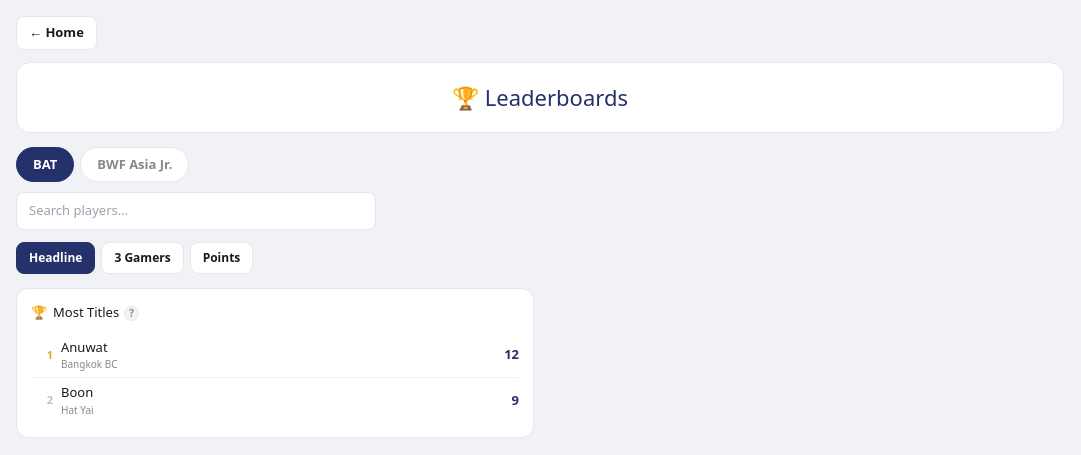
Test: LeaderboardsView › switches provider when tab clicked
This screenshot has width=1081, height=455.
Expected: the text "Ratchanok" is not shown
Step 1. Click the button "BWF Asia Jr." → (135, 164), box [80,146,189,182]
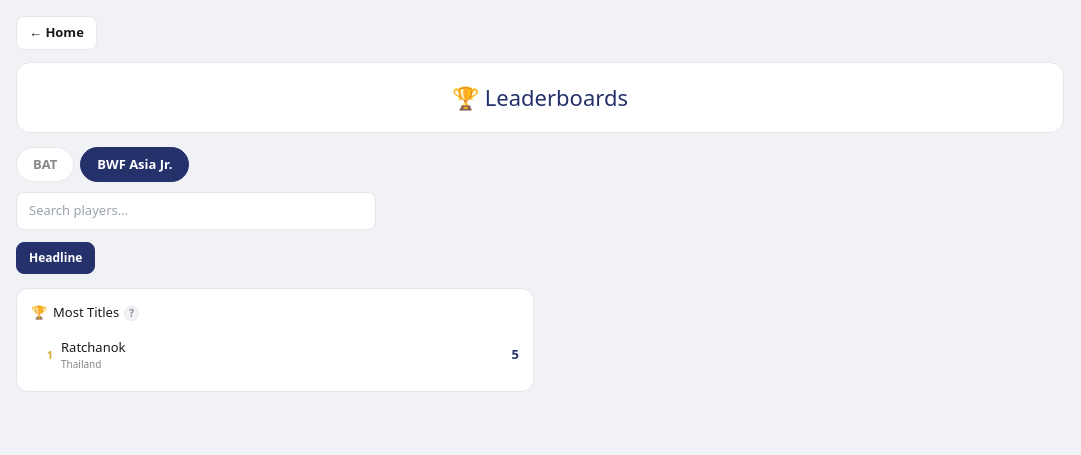
Now the text "Ratchanok" is shown, box [61,338,126,356]
